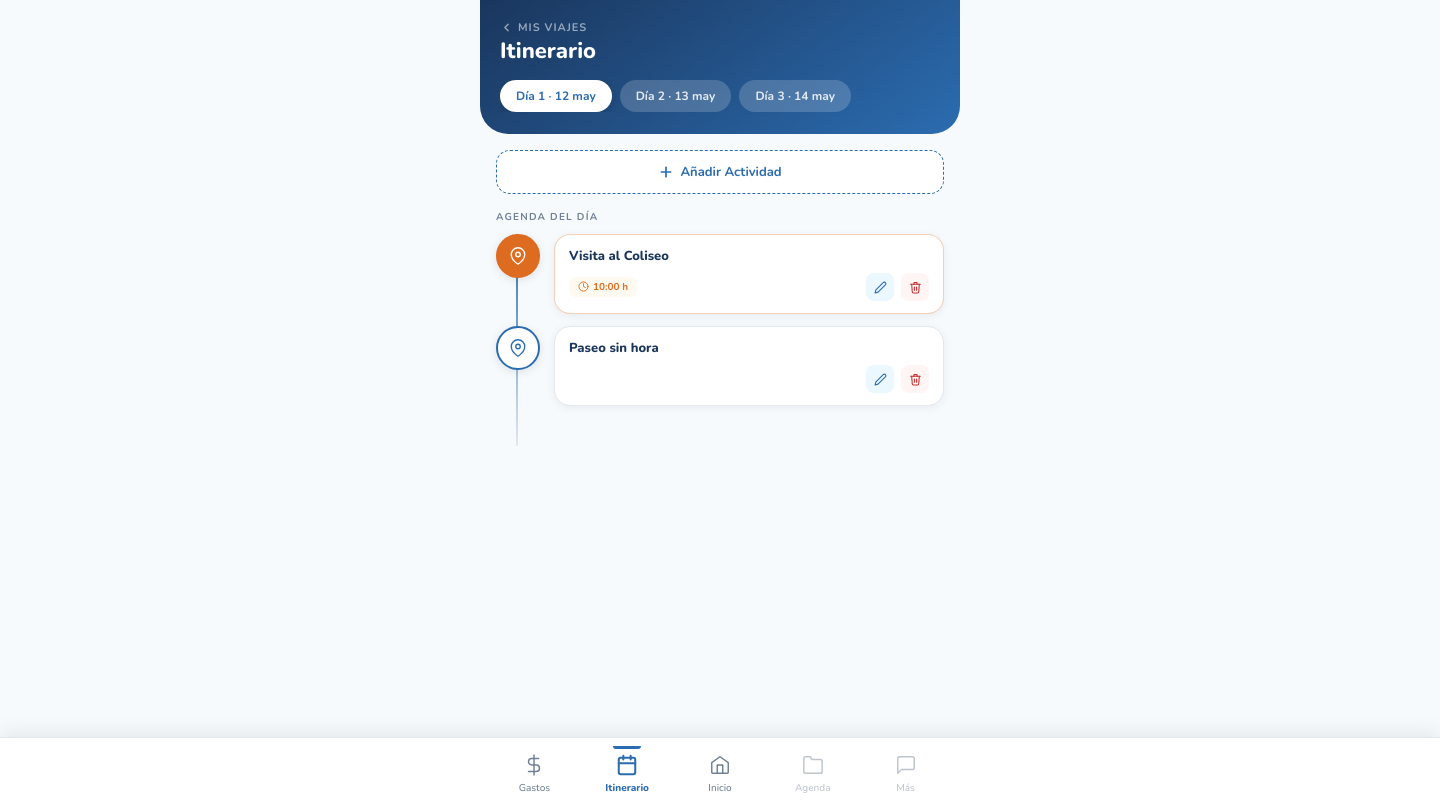
Itinerario · editar y eliminar actividades › al pulsar eliminar pide confirmación con el nombre de la actividad
What coordinates should you click on to do the following:
click the button named "Eliminar Visita al Coliseo"
I would click on:
 (915, 287)
Its box is 901,273 -> 929,301.
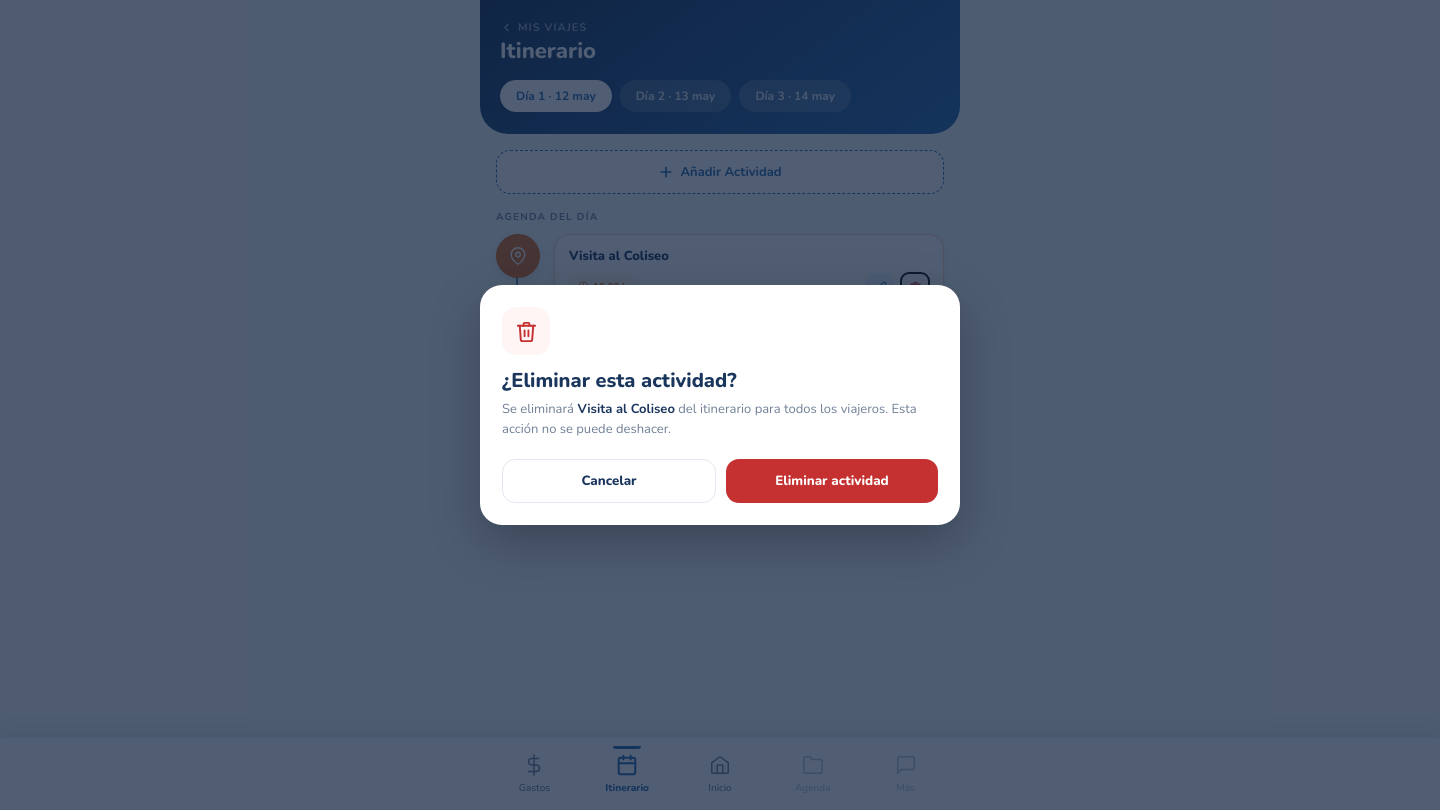
Result: the text "¿Eliminar esta actividad?" is shown at 502,367 -> 737,394
Result: the dialog shows "Visita al Coliseo" at 577,400 -> 675,418
Result: the dialog shows "Esta acción no se puede deshacer" at 502,400 -> 917,438
